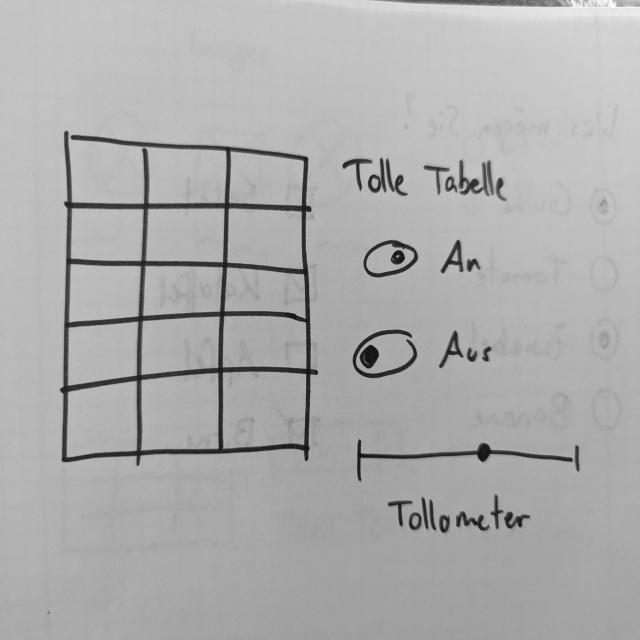label: (342, 154, 515, 211), (384, 496, 539, 542), (437, 332, 502, 377), (439, 237, 488, 284)
slider: (355, 437, 583, 487)
table: (62, 128, 315, 471)
toggle: (352, 327, 420, 385), (361, 238, 422, 285)
